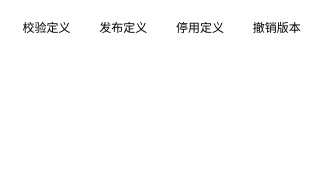
Test: DefinitionLifecycle semantic DOM › keeps validation useful while removing secrets and traceback text
Click the button "校验定义" at (46, 28), box [12, 12, 81, 43]
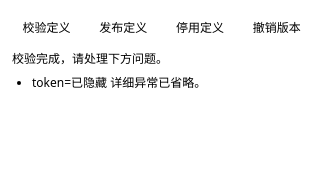
Expected: the text "校验完成，请处理下方问题。" is shown, [12, 50, 168, 67]
Expected: the list item "token=已隐藏 详细异常已省略。" is shown, [32, 74, 206, 91]
